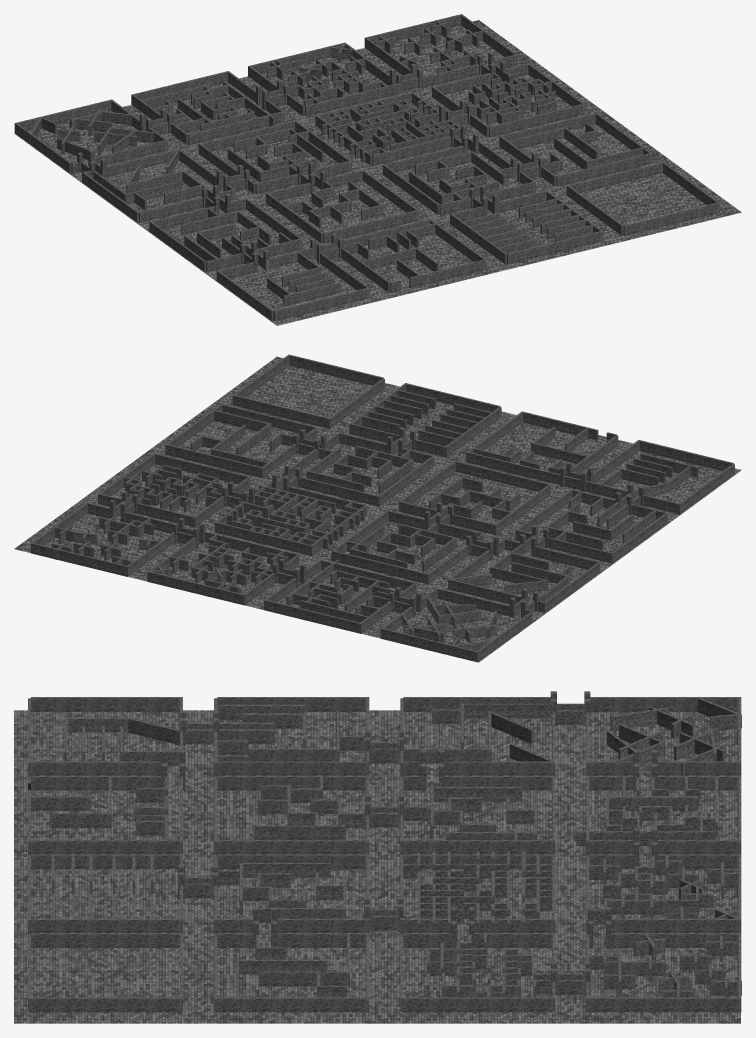
Rendered from FixMaize.fbx.
3 views of the same model, one above another, from view 1: azimuth 30°, elevation 25°; view 2: azimuth 150°, elevation 25°; view 3: azimuth 270°, elevation 25° (orthographic). The views are drawn at different scales.
Parts seen in each view (by area): view 1: Cube.254, Plane.011, Plane.010, Plane.009, Plane.008, Cube.337, Cube.468, Cube.487, Cube.349, Cube.350, Cube.340, Cube.488 (+3 smaller); view 2: Cube.254, Plane.011, Plane.010, Plane.009, Plane.008, Cube.488, Cube.472, Cube.350, Cube.468, Cube.337, Cube.340, Cube.334 (+2 smaller); view 3: Cube.254, Plane.011, Plane.010, Plane.009, Plane.008, Cube.487, Cube.340, Cube.337, Cube.350, Cube.472, Cube.488, Cube.334 (+14 smaller).
Part boxes in pixels (bbox=[...]): Cube.254: bbox=[14, 14, 719, 321]; Plane.011: bbox=[367, 113, 741, 271]; Plane.010: bbox=[142, 181, 497, 325]; Plane.009: bbox=[239, 20, 606, 171]; Plane.008: bbox=[14, 82, 359, 226]; Cube.337: bbox=[181, 210, 271, 244]; Cube.468: bbox=[415, 151, 505, 185]; Cube.487: bbox=[508, 127, 598, 159]; Cube.349: bbox=[233, 128, 323, 162]; Cube.350: bbox=[227, 148, 317, 182]; Cube.340: bbox=[93, 171, 182, 204]; Cube.488: bbox=[554, 137, 643, 169]; Cube.254: bbox=[30, 354, 734, 662]; Plane.011: bbox=[142, 356, 516, 513]; Plane.010: bbox=[391, 422, 741, 568]; Plane.009: bbox=[14, 455, 381, 608]; Plane.008: bbox=[258, 521, 606, 662]; Cube.488: bbox=[213, 409, 271, 455]; Cube.472: bbox=[355, 445, 413, 493]; Cube.350: bbox=[398, 523, 456, 571]; Cube.468: bbox=[306, 447, 364, 492]; Cube.337: bbox=[545, 503, 603, 550]; Cube.340: bbox=[511, 562, 569, 601]; Cube.334: bbox=[490, 544, 548, 590]; Cube.254: bbox=[28, 697, 741, 1012]; Plane.011: bbox=[14, 859, 387, 1023]; Plane.010: bbox=[14, 710, 387, 859]; Plane.009: bbox=[387, 859, 740, 1023]; Plane.008: bbox=[387, 710, 738, 859]; Cube.487: bbox=[259, 934, 349, 986]; Cube.340: bbox=[461, 703, 550, 748]; Cube.337: bbox=[248, 711, 339, 761]; Cube.350: bbox=[430, 787, 521, 839]; Cube.472: bbox=[240, 863, 330, 915]; Cube.488: bbox=[236, 959, 327, 998]; Cube.334: bbox=[404, 711, 491, 763].
Bounding box in the file's own units: 19517 × 724 × 19151.
1 material, 1 textured.
